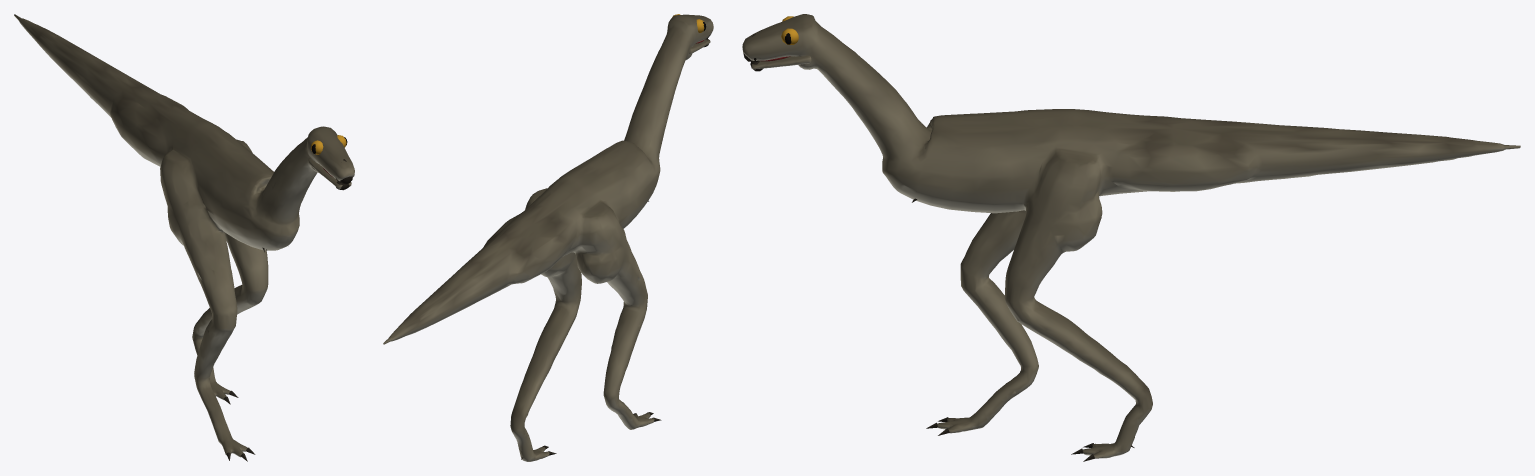
The model's file is Limusaurus.fbx.
The picture shows the model from 3 angles, left to right: view 1: azimuth 30°, elevation 25°; view 2: azimuth 150°, elevation 25°; view 3: azimuth 270°, elevation 25°; orthographic projection. The views are drawn at different scales.
Visible parts, largest first — view 1: Limusaurus; view 2: Limusaurus; view 3: Limusaurus.
Boxes of the visible parts, x1,y1,x2,y2 form: Limusaurus: (14, 14, 354, 461); Limusaurus: (383, 14, 713, 461); Limusaurus: (742, 14, 1520, 461).
Bounding box in the file's own units: 0.3854 × 1.51 × 2.51.
